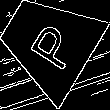P_NW: (18, 14, 78, 72)
